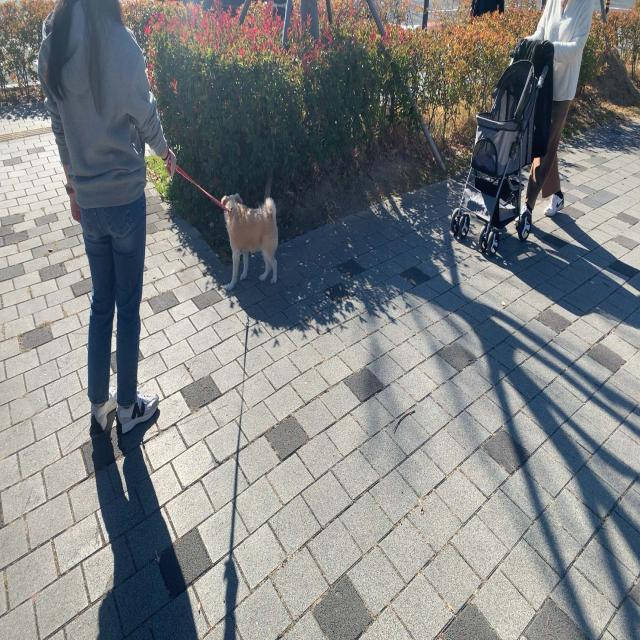Leashed_Dog: (110, 106, 278, 290)
